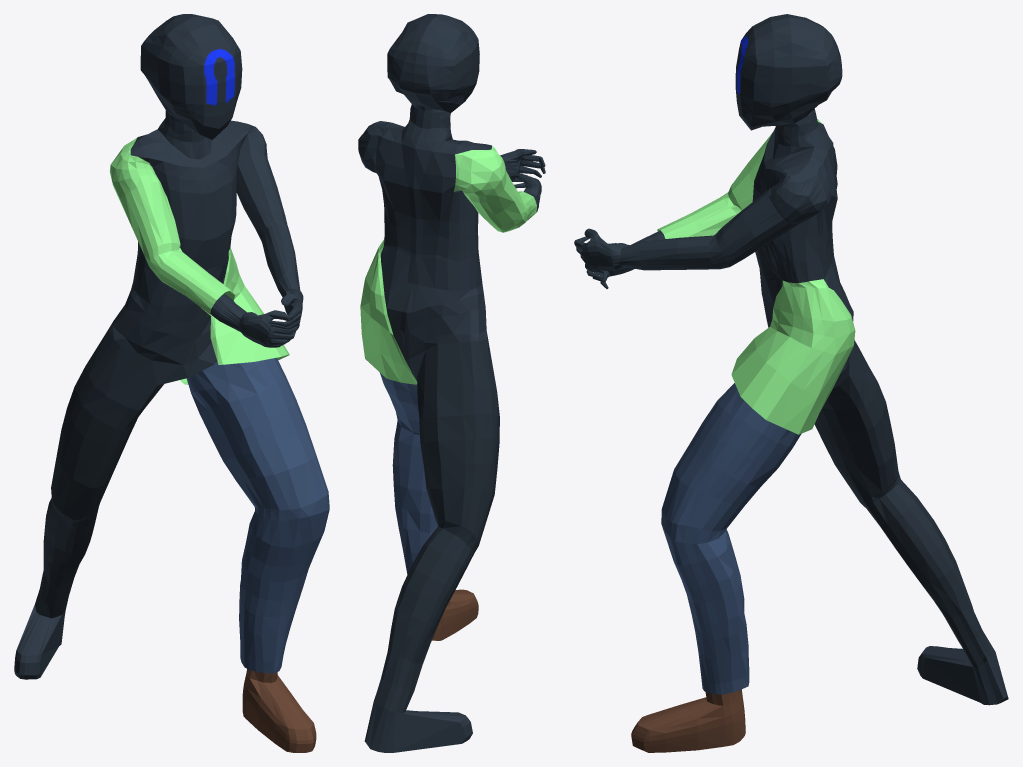
The model's file is Mar_Attack_000001.obj.
3 views of the same model, side by side, from view 1: azimuth 30°, elevation 25°; view 2: azimuth 150°, elevation 25°; view 3: azimuth 270°, elevation 25° (orthographic). The views are drawn at different scales.
Visible parts, largest first — view 1: Cube.000_Cube.001; view 2: Cube.000_Cube.001; view 3: Cube.000_Cube.001.
Boxes of the visible parts, bbox=[...] form: Cube.000_Cube.001: bbox=[14, 14, 329, 752]; Cube.000_Cube.001: bbox=[358, 14, 545, 752]; Cube.000_Cube.001: bbox=[574, 14, 1008, 752].
Bounding box in the file's own units: 1.09 × 3.74 × 2.07.
